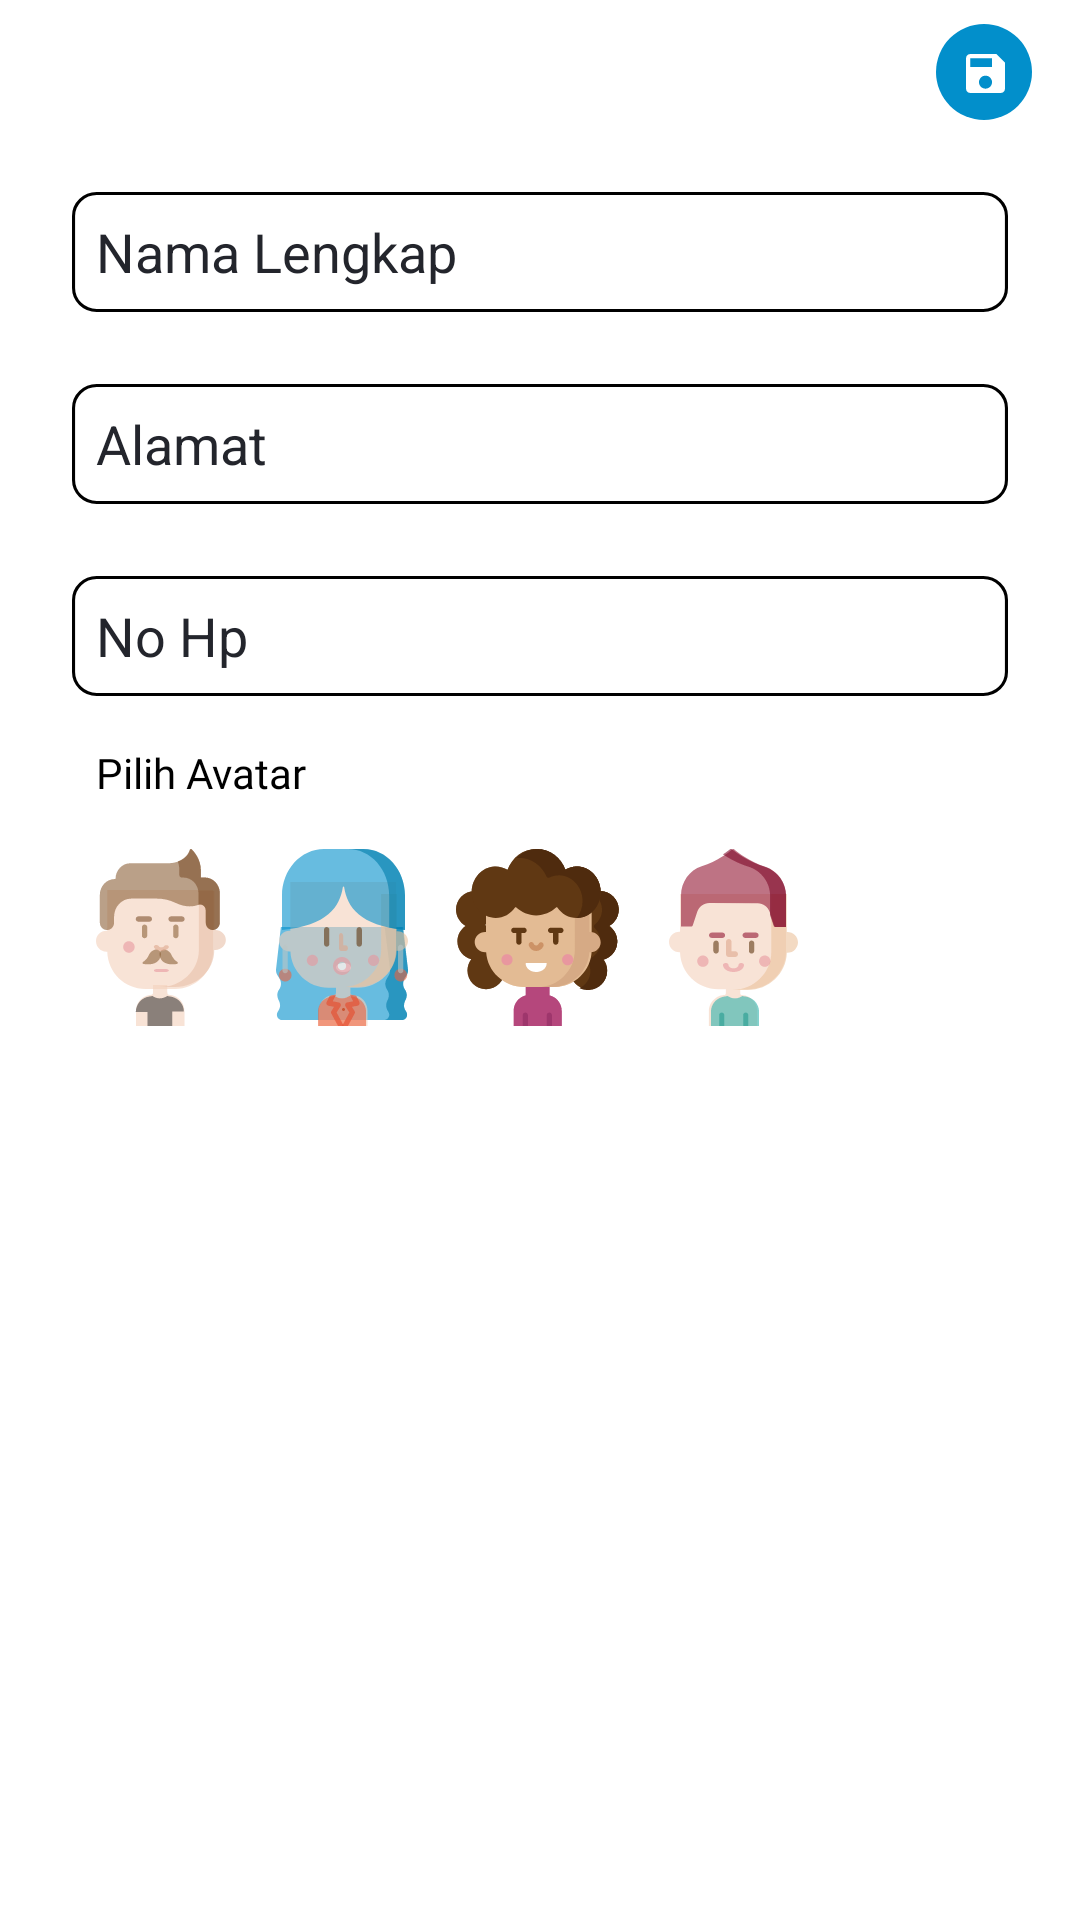

Where to tap for icons on this 1080*1920 app screen, as (x=x, y=y):
save: (x=984, y=72)
